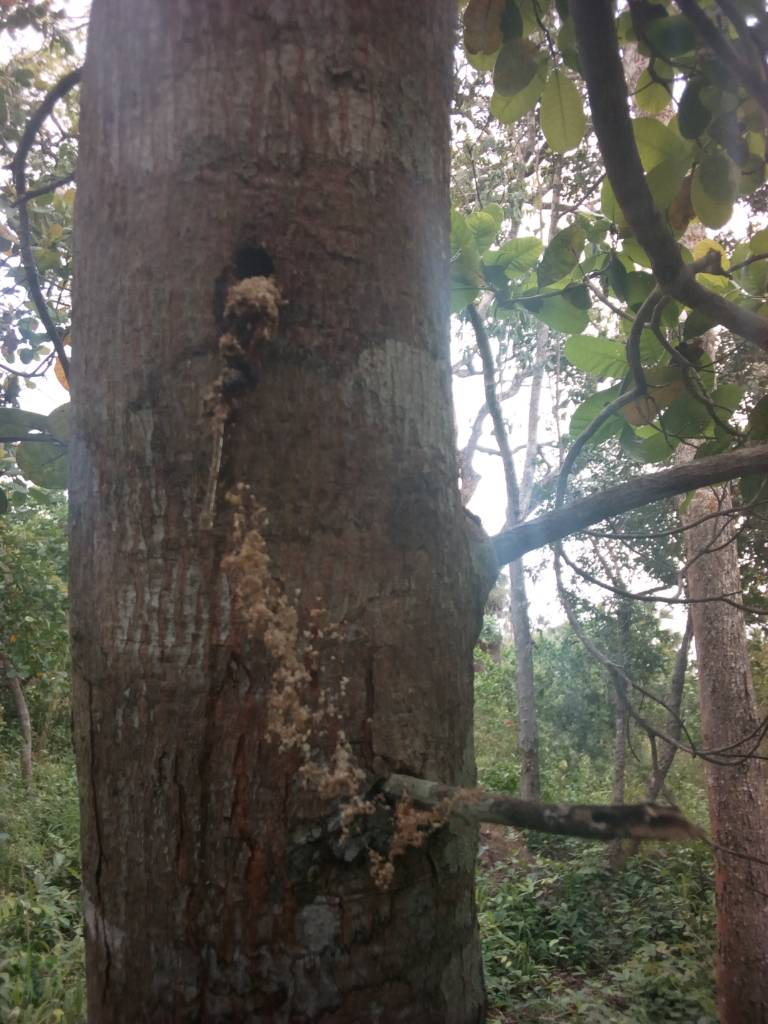Apate terebrans: (203, 217, 310, 330)
